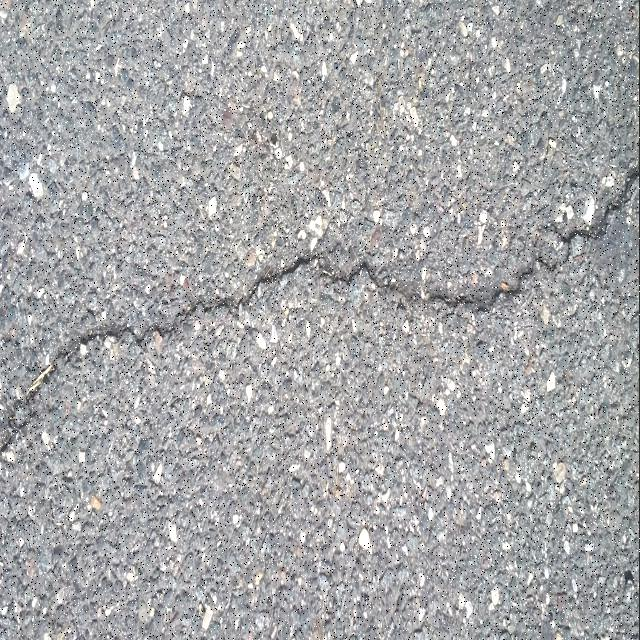Crack: (0, 158, 640, 457)
